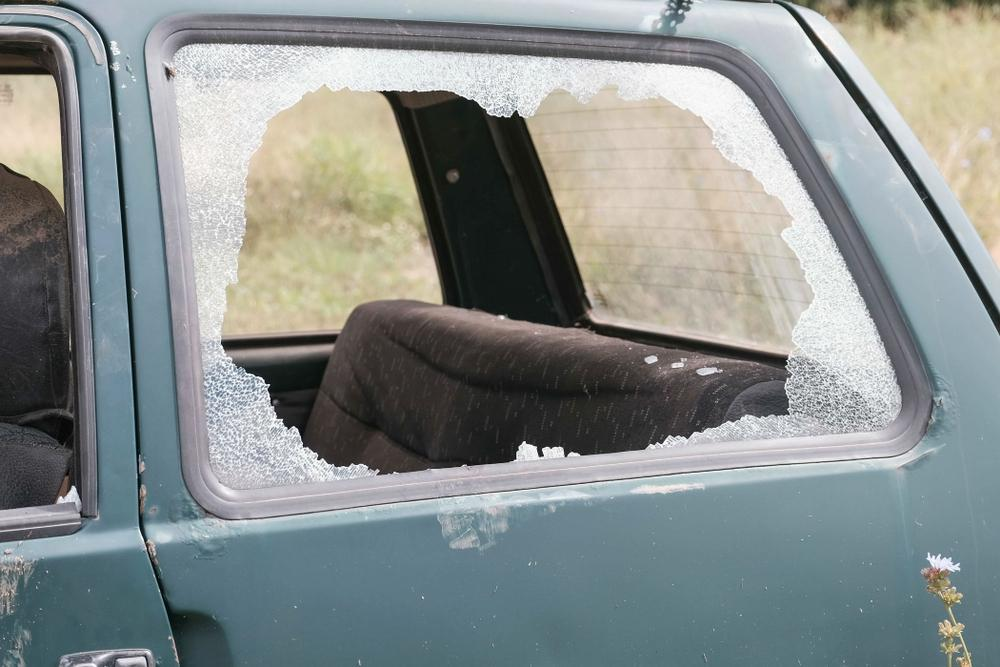glass shatter: (173, 41, 904, 491)
scratch: (439, 478, 727, 563)
